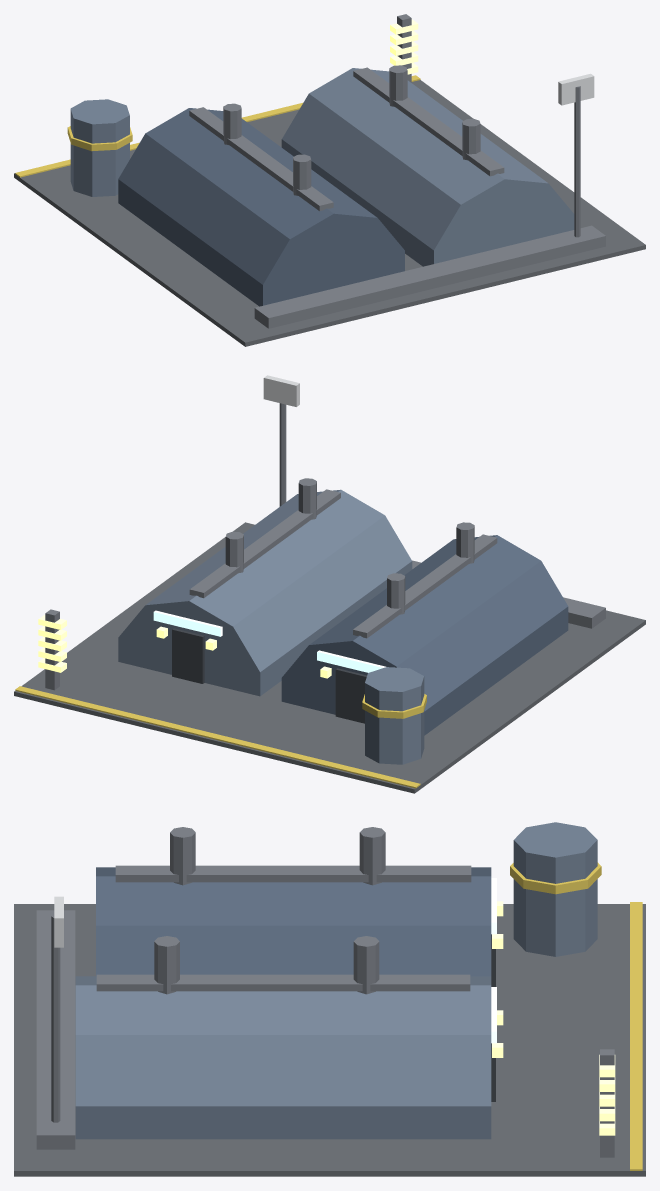
Rendered from zone_low_3_t5.glb.
The picture shows the model from 3 angles, top to bottom: view 1: azimuth 30°, elevation 25°; view 2: azimuth 150°, elevation 25°; view 3: azimuth 270°, elevation 25°; orthographic projection. The views are drawn at different scales.
Visible parts, largest first — view 1: zone_low_3_t5, detail; view 2: zone_low_3_t5, detail; view 3: zone_low_3_t5, detail.
Part boxes in pixels (<box>): zone_low_3_t5: <box>14,67,645,346</box>; detail: <box>15,14,594,237</box>; zone_low_3_t5: <box>14,489,645,793</box>; detail: <box>15,375,474,788</box>; zone_low_3_t5: <box>14,822,645,1176</box>; detail: <box>51,827,642,1170</box>.
Bounding box in the file's own units: 19.6 × 8 × 19.6.
